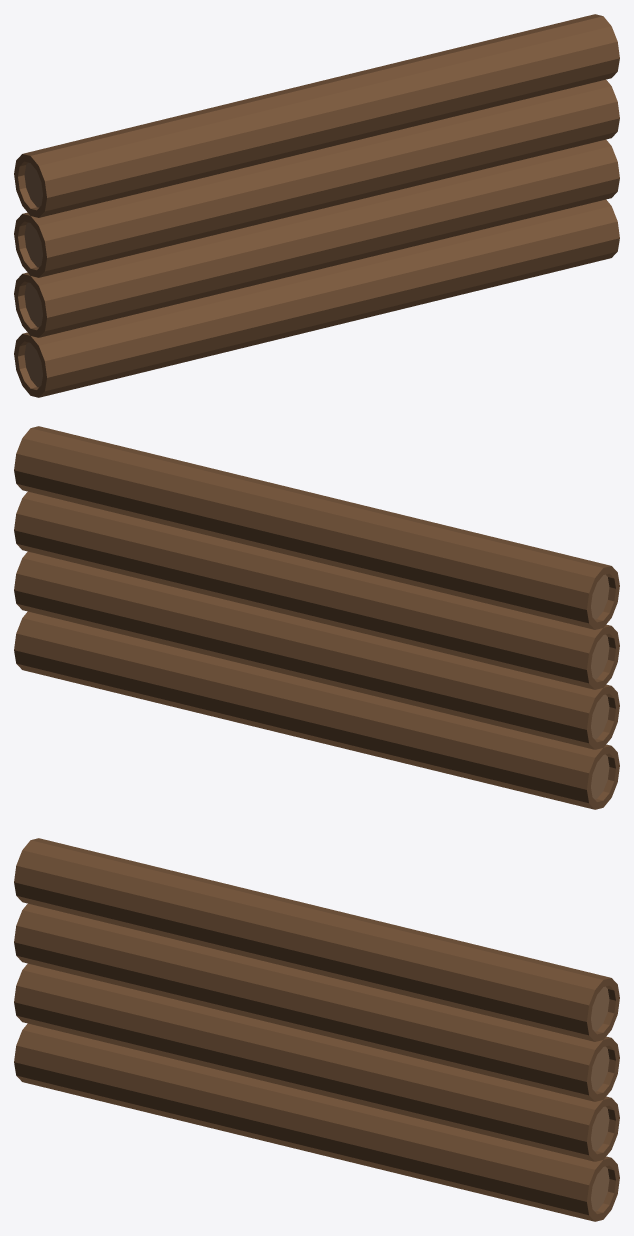
The model's file is mesh_wood_wall_half.fbx.
3 views of the same model, one above another, from view 1: azimuth 30°, elevation 25°; view 2: azimuth 150°, elevation 25°; view 3: azimuth 330°, elevation 25° (orthographic).
Parts seen in each view (by area): view 1: mesh_wood_wall_half; view 2: mesh_wood_wall_half; view 3: mesh_wood_wall_half.
Boxes of the visible parts, <box> form: mesh_wood_wall_half: <box>14,14,619,397</box>; mesh_wood_wall_half: <box>14,426,619,809</box>; mesh_wood_wall_half: <box>14,838,619,1221</box>.
Bounding box in the file's own units: 2 × 0.8002 × 0.2002.
